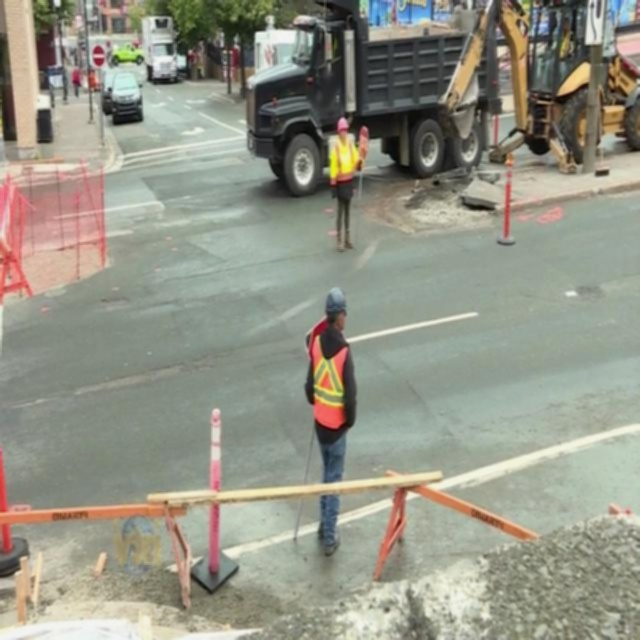Con_Casco: (325, 284, 347, 332)
Con_Chaleco: (312, 339, 348, 425), (330, 143, 358, 193)
